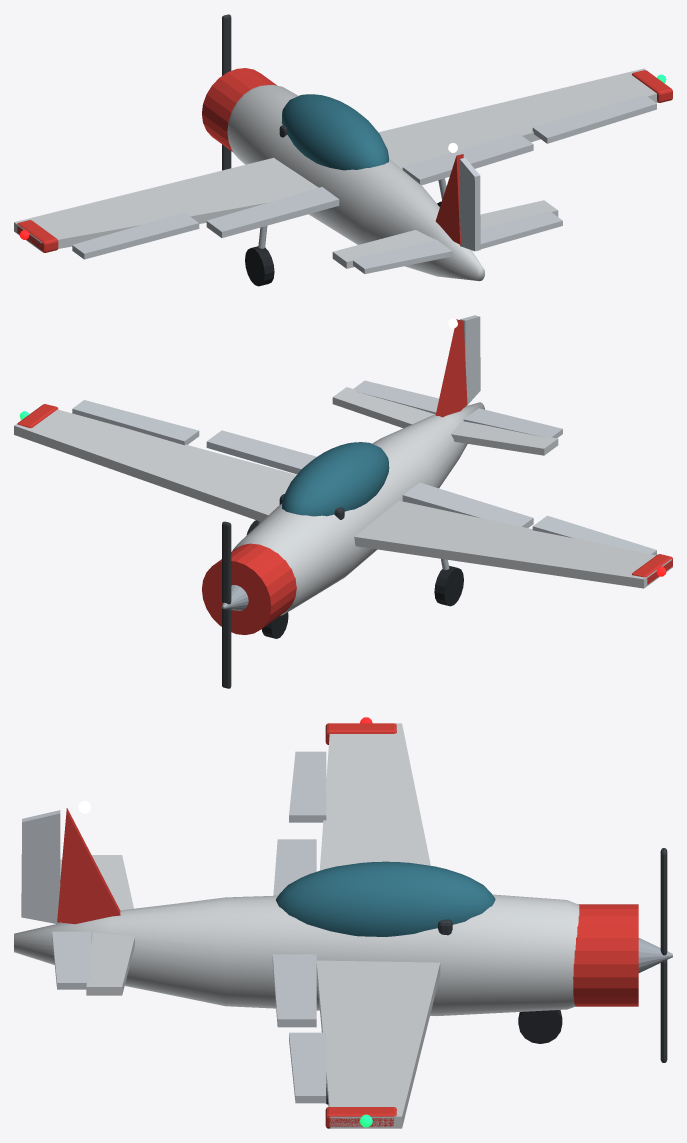
The model's file is fable-t01-aircraft.glb.
The picture shows the model from 3 angles, top to bottom: view 1: azimuth 30°, elevation 25°; view 2: azimuth 150°, elevation 25°; view 3: azimuth 270°, elevation 25°; orthographic projection. The views are drawn at different scales.
Parts seen in each view (by area): view 1: LOD0_Fuselage, LOD0_Wing_L, LOD0_Wing_R, LOD0_Canopy, LOD0_Flap_L, LOD0_Flap_R, LOD0_Cowling, LOD0_Aileron_L, LOD0_Aileron_R, LOD0_Rudder, LOD0_Elevator_L, LOD0_Elevator_R (+7 smaller); view 2: LOD0_Fuselage, LOD0_Wing_L, LOD0_Wing_R, LOD0_Canopy, LOD0_Cowling, LOD0_Flap_L, LOD0_Flap_R, LOD0_Aileron_R, LOD0_Horizontal_Stabilizer_L, LOD0_Horizontal_Stabilizer_R, LOD0_Vertical_Stabilizer, LOD0_Aileron_L (+7 smaller); view 3: LOD0_Fuselage, LOD0_Wing_R, LOD0_Canopy, LOD0_Wing_L, LOD0_Cowling, LOD0_Rudder, LOD0_Vertical_Stabilizer, LOD0_Flap_R, LOD0_Aileron_R, LOD0_Aileron_L, LOD0_Horizontal_Stabilizer_R, LOD0_Elevator_R (+8 smaller).
Boxes of the visible parts, bbox=[...] form: LOD0_Fuselage: bbox=[227, 85, 484, 281]; LOD0_Wing_L: bbox=[14, 158, 318, 251]; LOD0_Wing_R: bbox=[378, 68, 671, 169]; LOD0_Canopy: bbox=[281, 94, 388, 170]; LOD0_Flap_L: bbox=[206, 187, 339, 237]; LOD0_Flap_R: bbox=[402, 133, 533, 185]; LOD0_Cowling: bbox=[202, 68, 276, 151]; LOD0_Aileron_L: bbox=[72, 212, 199, 259]; LOD0_Aileron_R: bbox=[532, 95, 656, 143]; LOD0_Rudder: bbox=[460, 157, 480, 251]; LOD0_Elevator_L: bbox=[353, 240, 452, 273]; LOD0_Elevator_R: bbox=[480, 211, 562, 249]; LOD0_Fuselage: bbox=[232, 402, 484, 615]; LOD0_Wing_L: bbox=[354, 500, 671, 588]; LOD0_Wing_R: bbox=[14, 407, 296, 521]; LOD0_Canopy: bbox=[282, 442, 389, 516]; LOD0_Cowling: bbox=[202, 543, 296, 634]; LOD0_Flap_L: bbox=[402, 482, 533, 527]; LOD0_Flap_R: bbox=[206, 430, 316, 474]; LOD0_Aileron_R: bbox=[72, 400, 199, 445]; LOD0_Horizontal_Stabilizer_L: bbox=[451, 421, 558, 455]; LOD0_Horizontal_Stabilizer_R: bbox=[332, 387, 434, 428]; LOD0_Vertical_Stabilizer: bbox=[435, 319, 467, 417]; LOD0_Aileron_L: bbox=[532, 515, 656, 555]; LOD0_Fuselage: bbox=[14, 894, 579, 1015]; LOD0_Wing_R: bbox=[316, 960, 440, 1128]; LOD0_Canopy: bbox=[276, 861, 495, 936]; LOD0_Wing_L: bbox=[319, 723, 430, 870]; LOD0_Cowling: bbox=[573, 904, 638, 1006]; LOD0_Rudder: bbox=[21, 810, 60, 924]; LOD0_Vertical_Stabilizer: bbox=[57, 808, 120, 924]; LOD0_Flap_R: bbox=[272, 954, 316, 1027]; LOD0_Aileron_R: bbox=[289, 1032, 326, 1103]; LOD0_Aileron_L: bbox=[289, 751, 326, 822]; LOD0_Horizontal_Stabilizer_R: bbox=[86, 933, 135, 995]; LOD0_Elevator_R: bbox=[52, 931, 91, 989].
Size of the model in its own units: 11.71 by 3.53 by 8.1.
